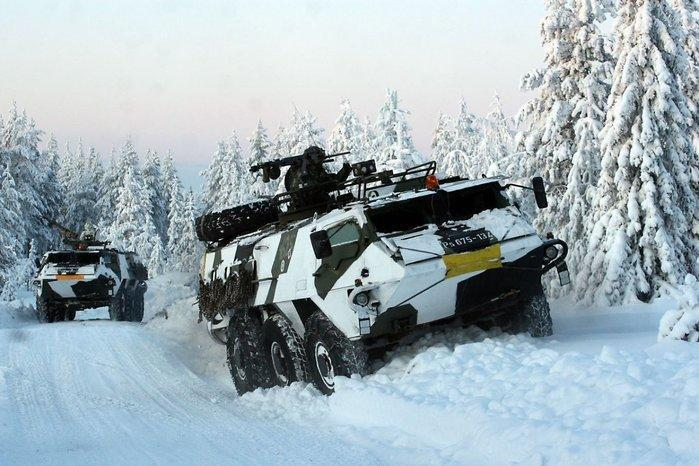MIL_IFV: (192, 144, 574, 399), (29, 220, 147, 333)
